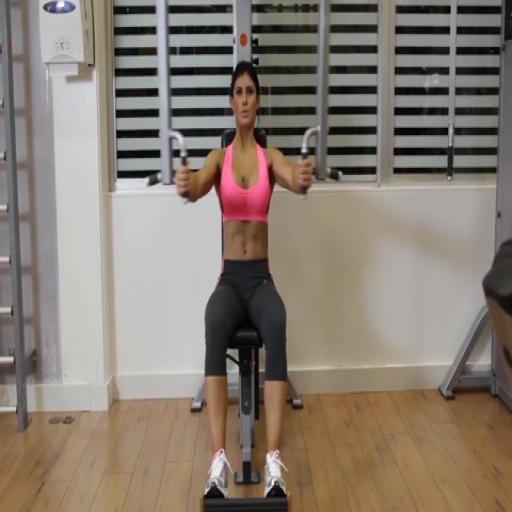exercise: (173, 60, 316, 503)
